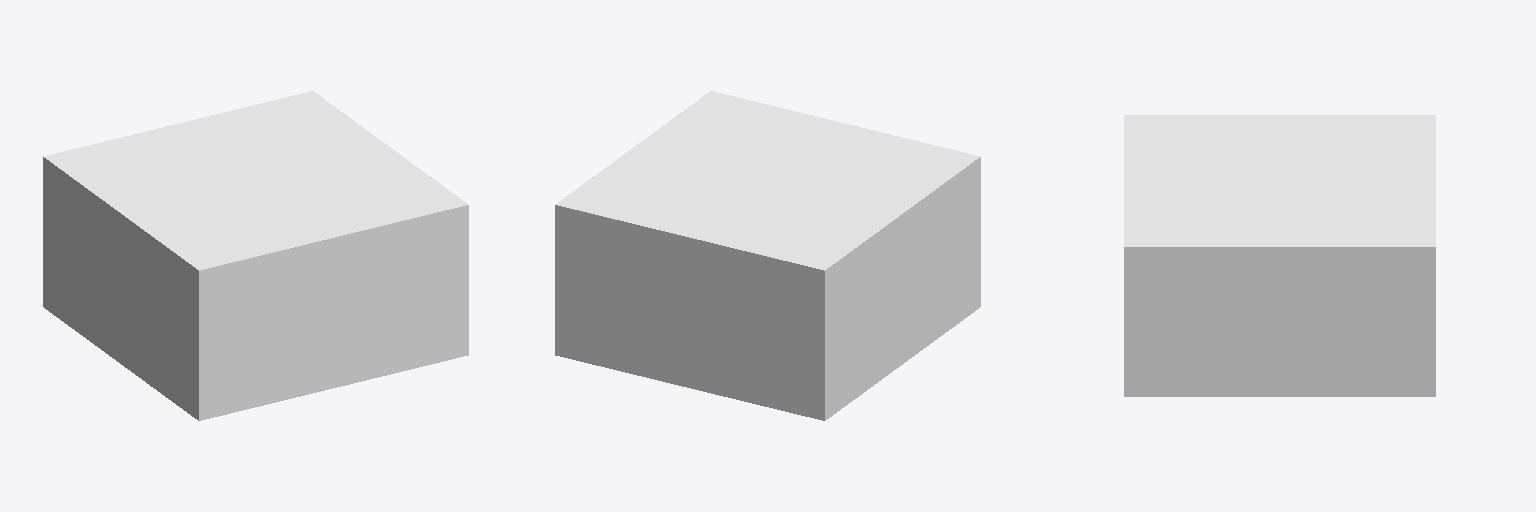
Rendered from StoneBrickHalf.obj.
3 views of the same model, side by side, from view 1: azimuth 30°, elevation 25°; view 2: azimuth 150°, elevation 25°; view 3: azimuth 270°, elevation 25° (orthographic).
Visible parts, largest first — view 1: StoneBrickHalf; view 2: StoneBrickHalf; view 3: StoneBrickHalf.
Part boxes in pixels (left/top/right/bottom): StoneBrickHalf: left=43, top=91, right=468, bottom=420; StoneBrickHalf: left=555, top=91, right=980, bottom=420; StoneBrickHalf: left=1124, top=115, right=1435, bottom=396.
Bounding box in the file's own units: 15 × 8 × 15.